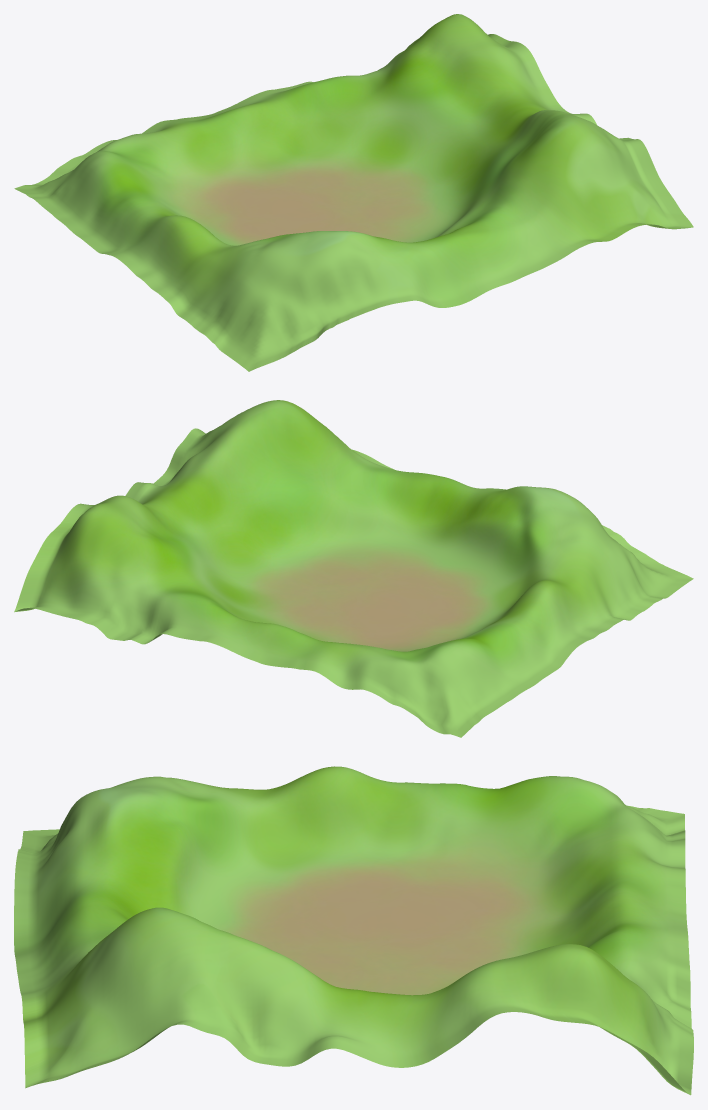
File: play_area.fbx
3 views of the same model, one above another, from view 1: azimuth 30°, elevation 25°; view 2: azimuth 150°, elevation 25°; view 3: azimuth 270°, elevation 25° (orthographic). The views are drawn at different scales.
Visible parts, largest first — view 1: Landscape.001; view 2: Landscape.001; view 3: Landscape.001.
Boxes of the visible parts, x1,y1,x2,y2 form: Landscape.001: [14, 14, 693, 371]; Landscape.001: [14, 400, 693, 737]; Landscape.001: [14, 766, 693, 1095].
Bounding box in the file's own units: 6386 × 1633 × 5796.
